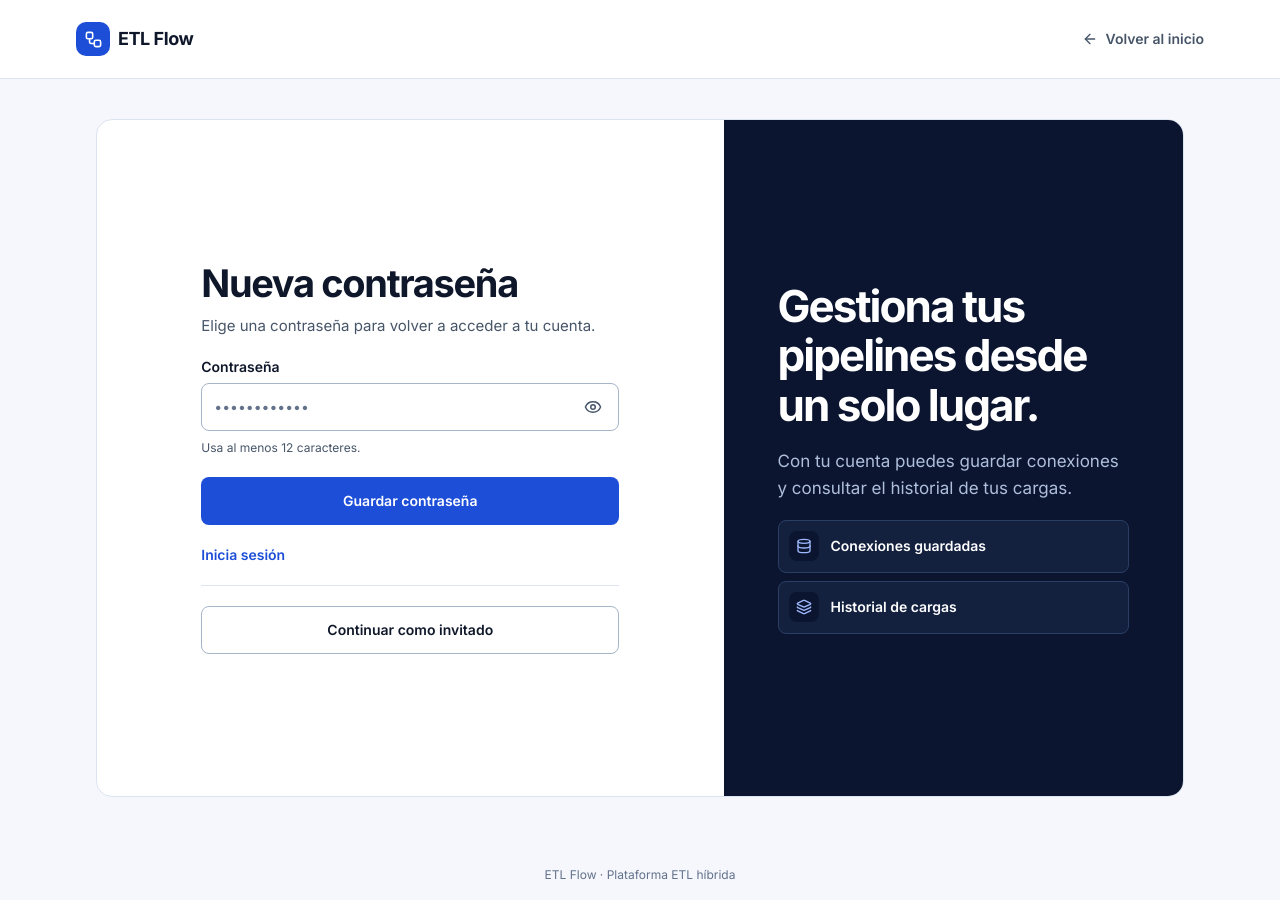
Test: account forms › shows feedback when resetting a password
Type "synthetic-passphrase" into the password field labelled "Contraseña" at (410, 407), box [201,383,619,431]
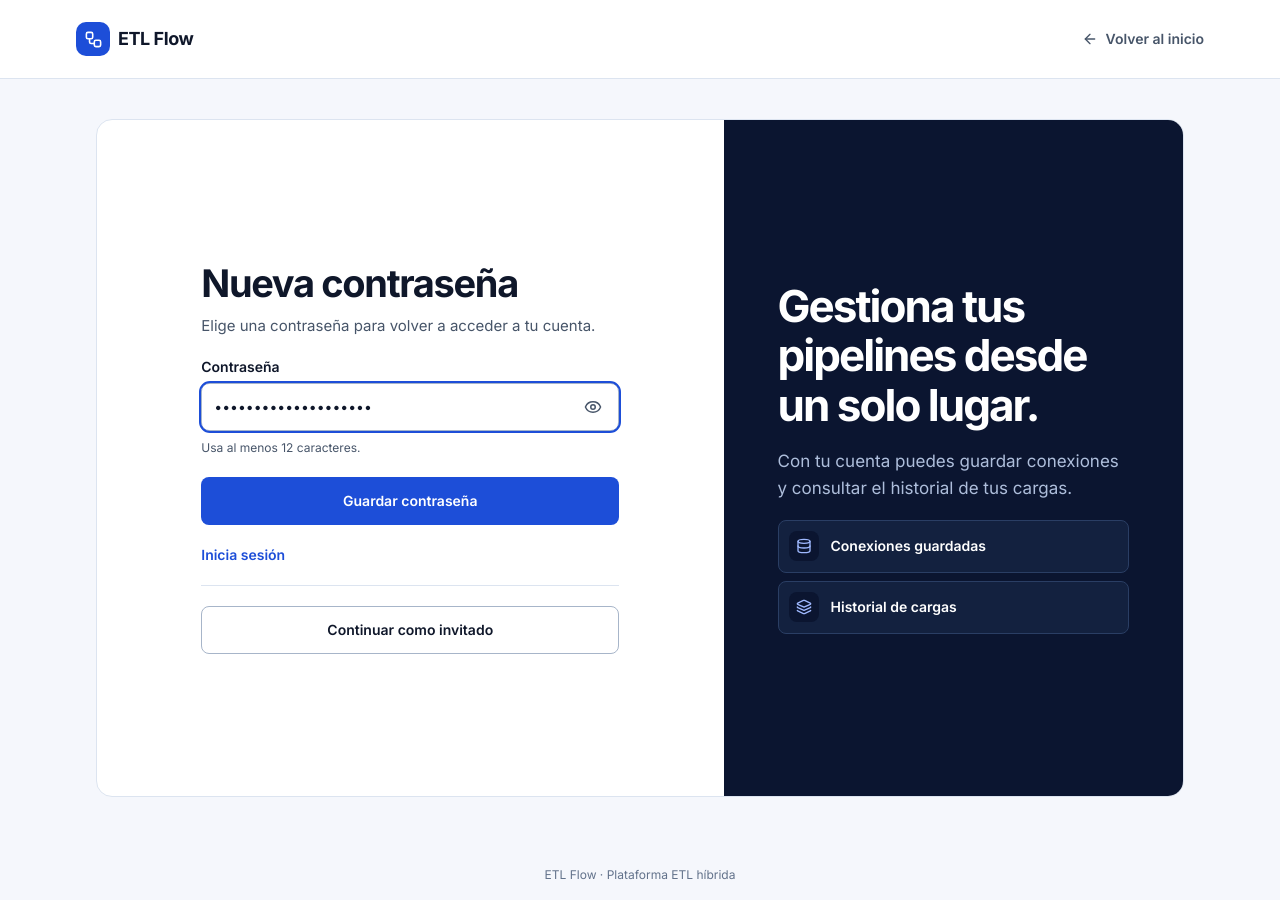
Click the button "Guardar contraseña" at (410, 501), box [201,477,619,525]
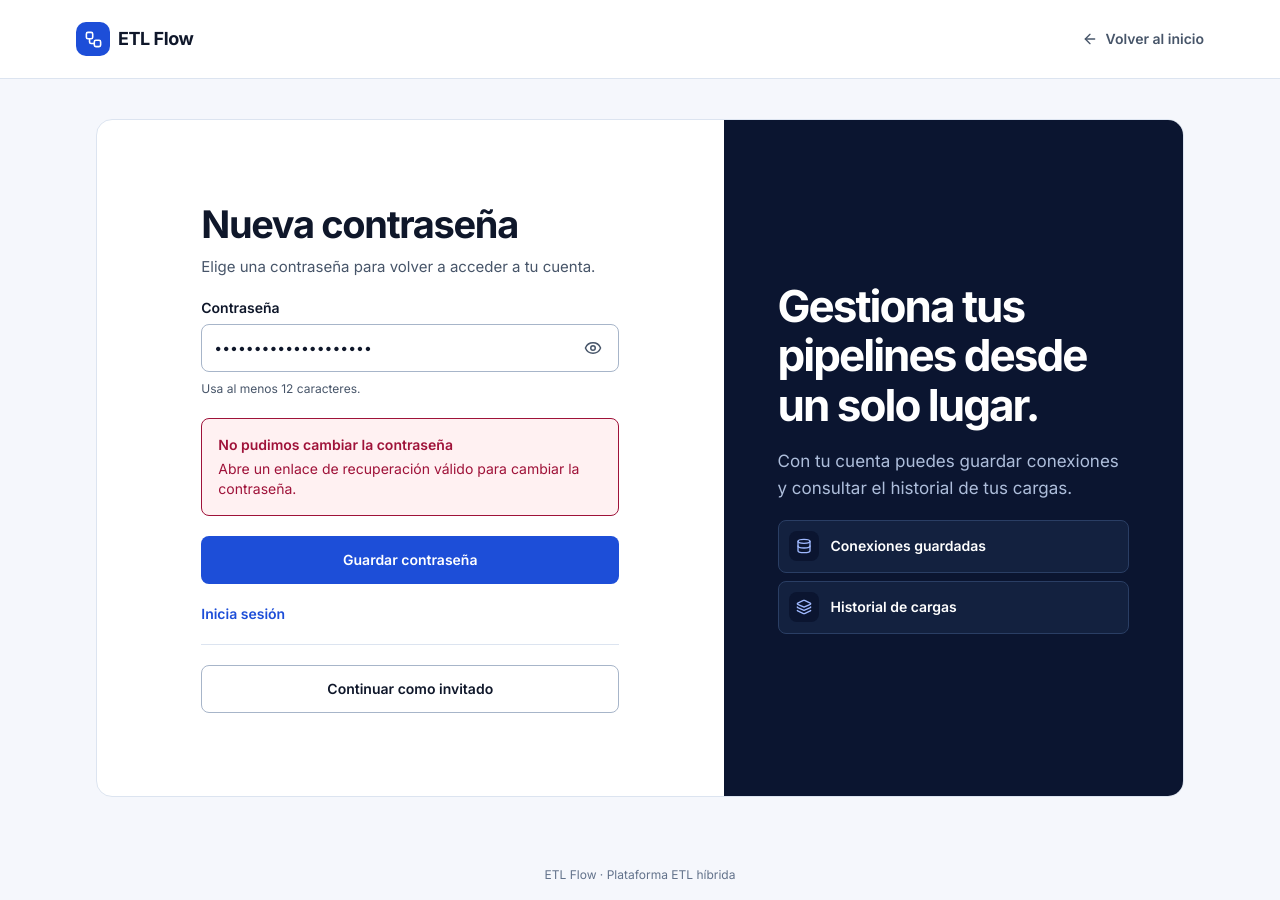
Check: the text "Abre un enlace de recuperación válido" is shown, box [218,460,580,497]
